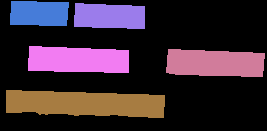parkingspot: (6, 90, 164, 117), (166, 49, 264, 76), (28, 46, 128, 72), (74, 3, 144, 28), (10, 1, 68, 25)
